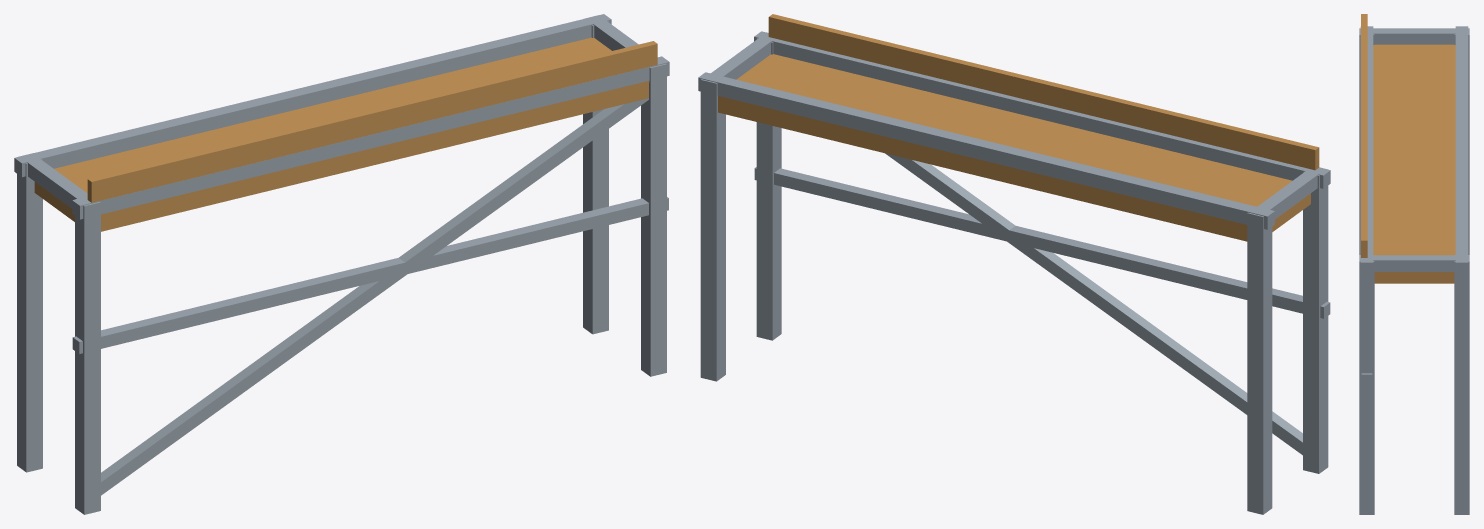
Rendered from scaffold.glb.
3 views of the same model, side by side, from view 1: azimuth 30°, elevation 25°; view 2: azimuth 150°, elevation 25°; view 3: azimuth 270°, elevation 25° (orthographic). The views are drawn at different scales.
Visible parts, largest first — view 1: Cube.010, Cube.011, Cube.009, Cube.006, Cube.008, Cube.007, Cube.001, Cube.004, Cube, Cube.003, Cube.002, Cube.005; view 2: Cube.010, Cube.011, Cube.006, Cube.008, Cube.007, Cube.009, Cube, Cube.003, Cube.001, Cube.004, Cube.002, Cube.005; view 3: Cube.010, Cube.003, Cube.004, Cube.006, Cube.007, Cube.011, Cube.002, Cube.005, Cube, Cube.001.
Part boxes in pixels (box(x1,y1,x2,y2)): Cube.010: box(34, 37, 648, 231); Cube.011: box(87, 41, 657, 216); Cube.009: box(101, 98, 648, 495); Cube.006: box(14, 14, 611, 177); Cube.008: box(72, 197, 668, 353); Cube.007: box(72, 56, 669, 219); Cube.001: box(75, 199, 100, 514); Cube.004: box(641, 63, 666, 376); Cube: box(17, 153, 42, 472); Cube.003: box(583, 15, 608, 334); Cube.002: box(23, 156, 87, 208); Cube.005: box(590, 18, 638, 50); Cube.010: box(718, 54, 1310, 241); Cube.011: box(768, 14, 1319, 170); Cube.006: box(698, 72, 1274, 229); Cube.008: box(754, 167, 1330, 318); Cube.007: box(754, 31, 1330, 188); Cube.009: box(885, 153, 1302, 455); Cube: box(1247, 210, 1272, 514); Cube.003: box(700, 76, 725, 381); Cube.001: box(1303, 167, 1328, 473); Cube.004: box(756, 32, 781, 340); Cube.002: box(1253, 169, 1321, 219); Cube.005: box(707, 38, 771, 79); Cube.010: box(1373, 44, 1455, 283); Cube.003: box(1454, 255, 1469, 514); Cube.004: box(1359, 255, 1374, 514); Cube.006: box(1455, 26, 1468, 273); Cube.007: box(1360, 26, 1373, 273); Cube.011: box(1361, 14, 1367, 257); Cube.002: box(1367, 28, 1461, 44); Cube.005: box(1367, 255, 1461, 271); Cube: box(1454, 28, 1469, 254); Cube.001: box(1359, 28, 1374, 254).
Size of the model in its own units: 1 by 0.535 by 0.198.
